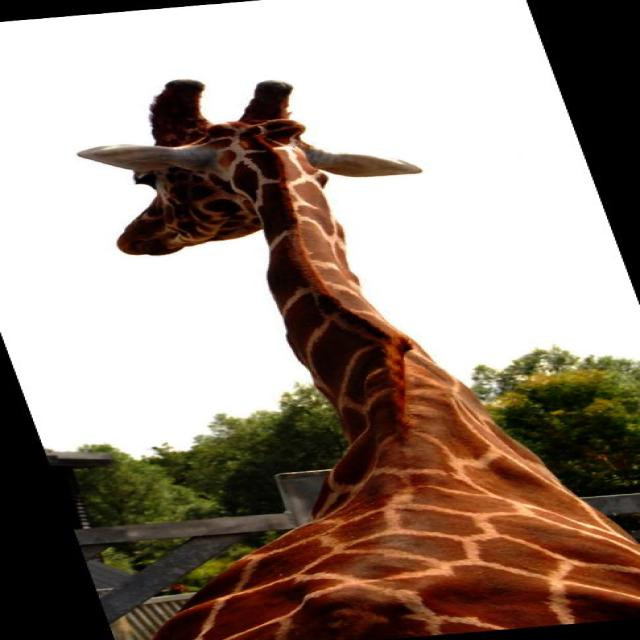Giraffe: (50, 67, 640, 634)
